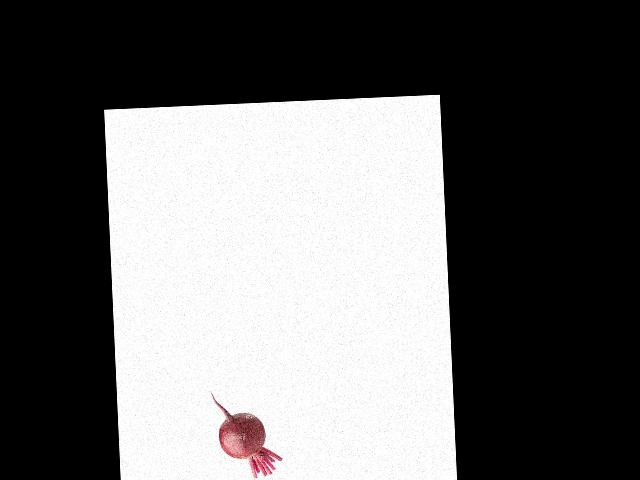beet: (210, 388, 283, 480)
